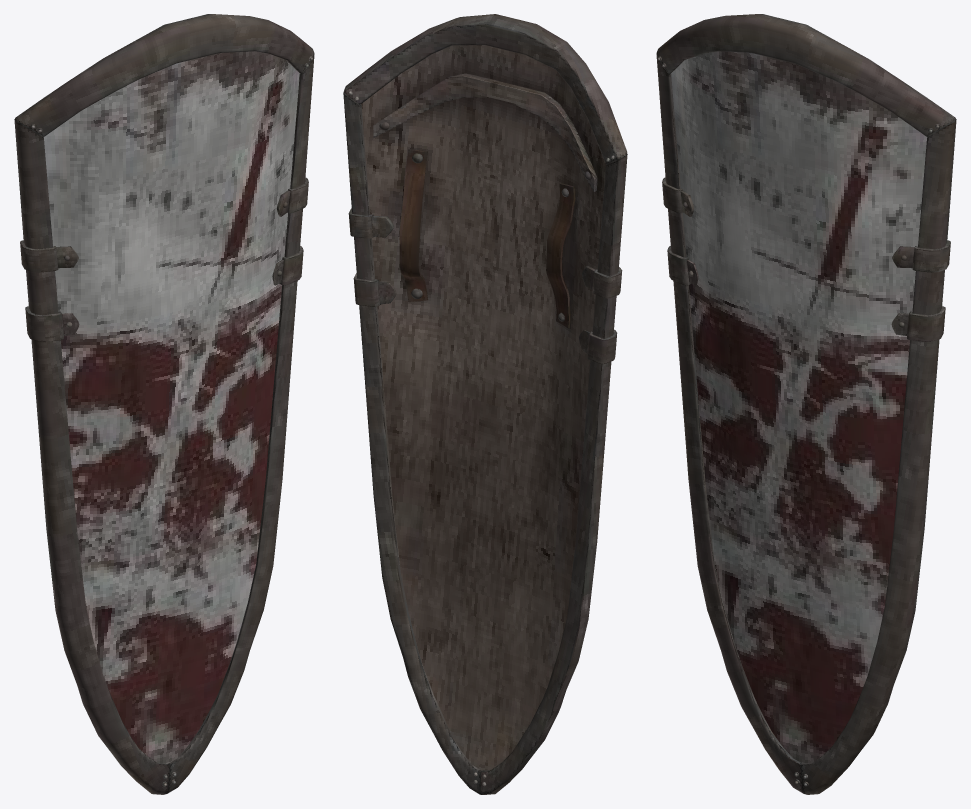
File: natural-shield-weathered.glb
3 views of the same model, side by side, from view 1: azimuth 30°, elevation 25°; view 2: azimuth 150°, elevation 25°; view 3: azimuth 330°, elevation 25° (orthographic). The views are drawn at different scales.
Visible parts, largest first — view 1: natural-shield-weathered runtime mesh; view 2: natural-shield-weathered runtime mesh; view 3: natural-shield-weathered runtime mesh.
Boxes of the visible parts, box(x1,y1,x2,y2) form: natural-shield-weathered runtime mesh: box(14, 14, 314, 794); natural-shield-weathered runtime mesh: box(343, 14, 627, 794); natural-shield-weathered runtime mesh: box(656, 14, 956, 794).
Bounding box in the file's own units: 0.3273 × 0.84 × 0.0812.
Materials: 2 (2 with a texture image).
